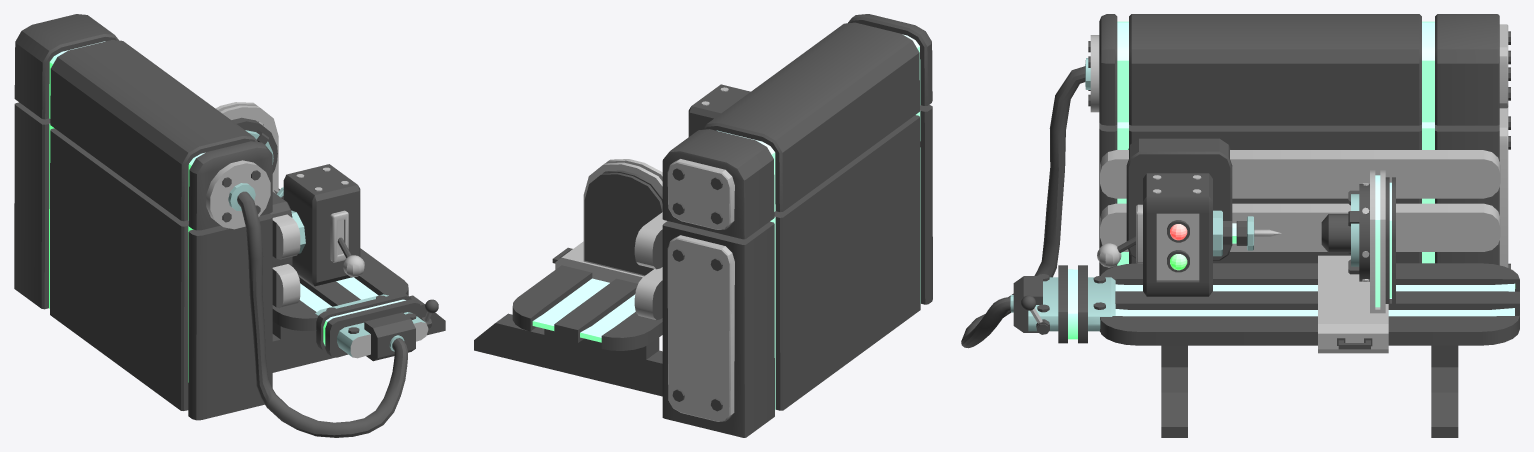
The model's file is Usineur.fbx.
3 renders of one model, left to right at view 1: azimuth 30°, elevation 25°; view 2: azimuth 150°, elevation 25°; view 3: azimuth 270°, elevation 25°, orthographic. The views are drawn at different scales.
Parts seen in each view (by area): view 1: Cube.002, Cube.029, Cube.030; view 2: Cube.002, Cube.030, Cube.029; view 3: Cube.002, Cube.029, Cube.030.
Boxes of the visible parts, box(x1,y1,x2,y2) form: Cube.002: box(14, 14, 445, 437); Cube.029: box(270, 164, 364, 286); Cube.030: box(215, 102, 278, 193); Cube.002: box(474, 14, 932, 437); Cube.030: box(552, 159, 662, 283); Cube.029: box(688, 84, 750, 136); Cube.002: box(961, 14, 1519, 437); Cube.029: box(1097, 138, 1281, 296); Cube.030: box(1318, 170, 1395, 353).
Size of the model in its own units: 92.06 by 82.13 by 146.
